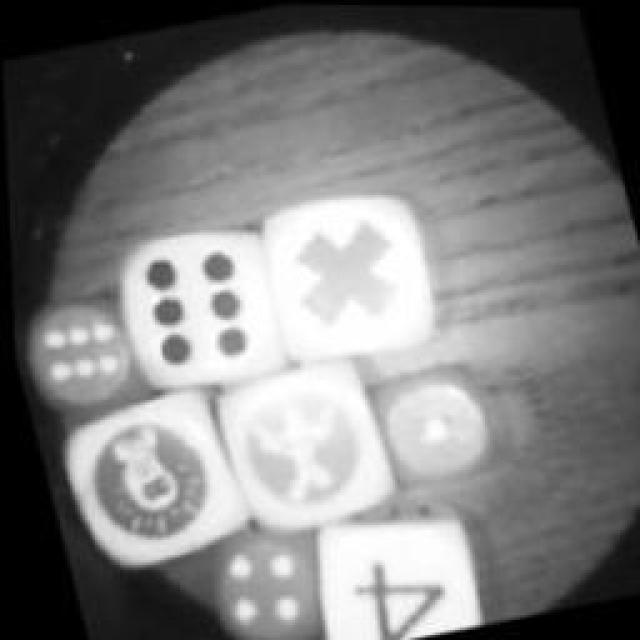dice_1: (351, 349, 519, 506)
dice_4: (181, 502, 349, 640)
dice_6: (95, 206, 305, 419), (10, 281, 160, 434)
